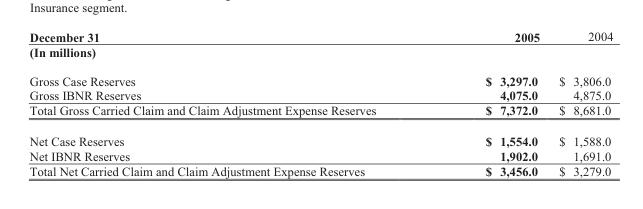table: (28, 29, 612, 177)
table column: (28, 29, 430, 177), (430, 29, 548, 177), (548, 29, 612, 177)
table column header: (28, 29, 612, 43)
table projected row header: (28, 43, 612, 65)
table row: (28, 102, 612, 125), (28, 125, 612, 148), (28, 43, 612, 65), (28, 65, 612, 87), (28, 87, 612, 102), (28, 148, 612, 163), (28, 29, 612, 43), (28, 163, 612, 177)
